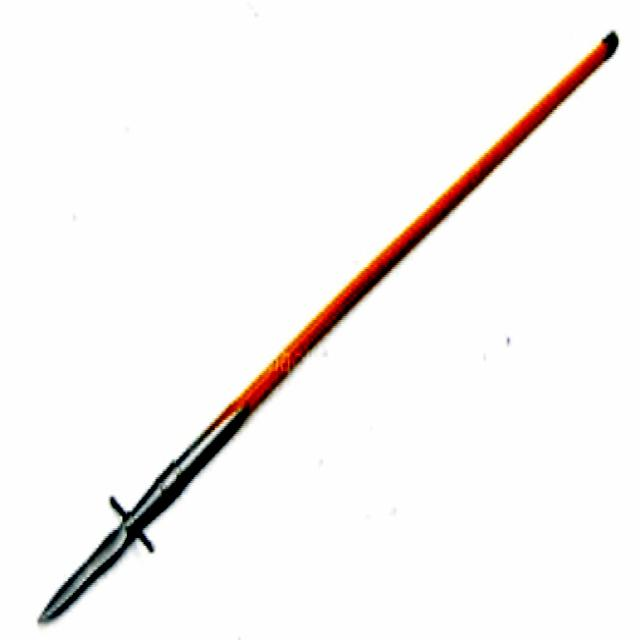spear: (14, 11, 631, 616)
